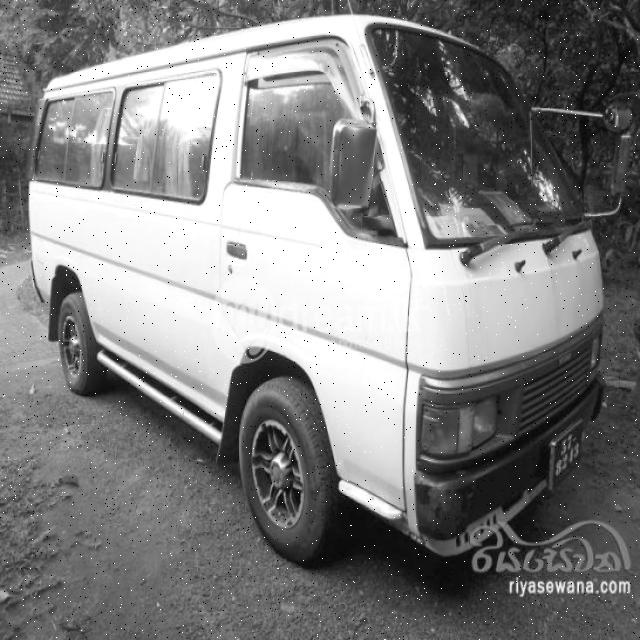Van: (34, 20, 623, 554)
